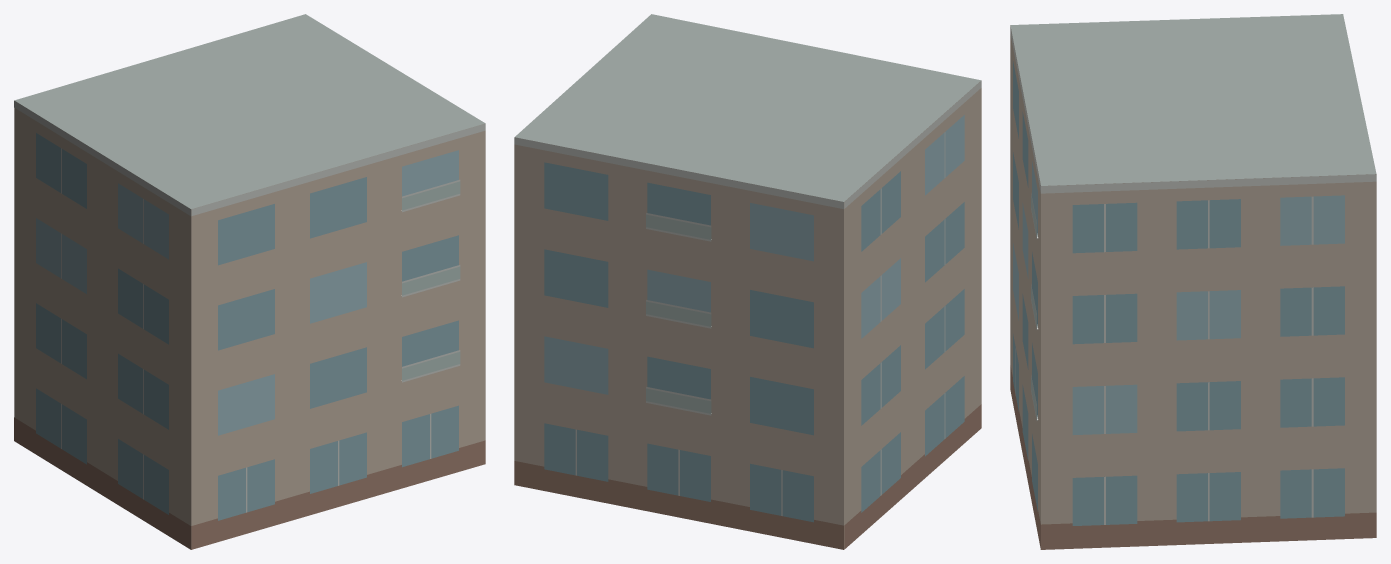
The model's file is survey-upis-32914005.glb.
3 views of the same model, side by side, from view 1: azimuth 30°, elevation 25°; view 2: azimuth 150°, elevation 25°; view 3: azimuth 270°, elevation 25° (orthographic). The views are drawn at different scales.
Parts seen in each view (by area): view 1: survey-upis-32914005.tmp; view 2: survey-upis-32914005.tmp; view 3: survey-upis-32914005.tmp.
Boxes of the visible parts, x1,y1,x2,y2 form: survey-upis-32914005.tmp: (14, 14, 485, 549); survey-upis-32914005.tmp: (514, 14, 981, 549); survey-upis-32914005.tmp: (1010, 14, 1376, 549).
Size of the model in its own units: 11.82 by 11.65 by 10.64.
